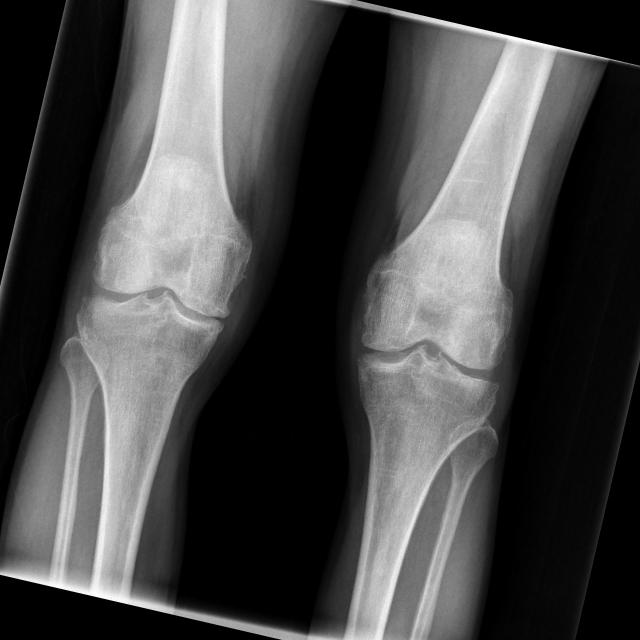Knee: (69, 222, 250, 376), (334, 283, 516, 432)
